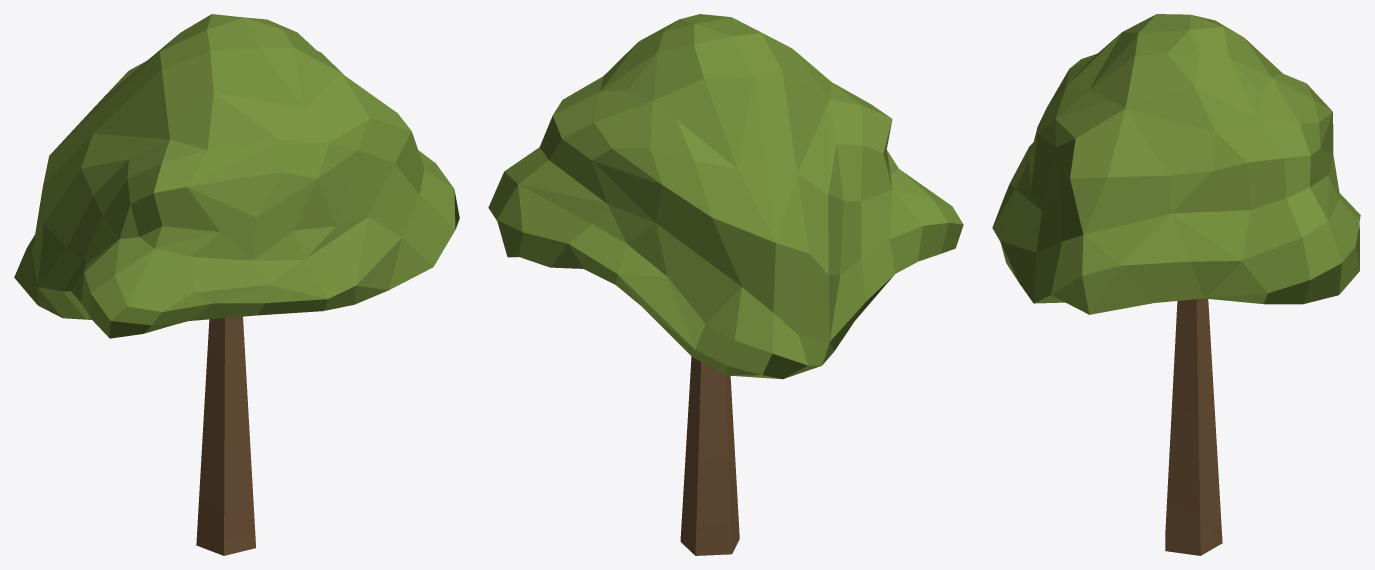
Rendered from wild_pz_tree_20_g.glb.
3 views of the same model, side by side, from view 1: azimuth 30°, elevation 25°; view 2: azimuth 150°, elevation 25°; view 3: azimuth 270°, elevation 25° (orthographic).
Parts seen in each view (by area): view 1: pg_tree_20_g; view 2: pg_tree_20_g; view 3: pg_tree_20_g.
Boxes of the visible parts, box(x1,y1,x2,y2) form: pg_tree_20_g: box(14, 14, 459, 555); pg_tree_20_g: box(488, 14, 963, 555); pg_tree_20_g: box(992, 14, 1360, 555).
Size of the model in its own units: 3.31 by 4.46 by 2.85.
